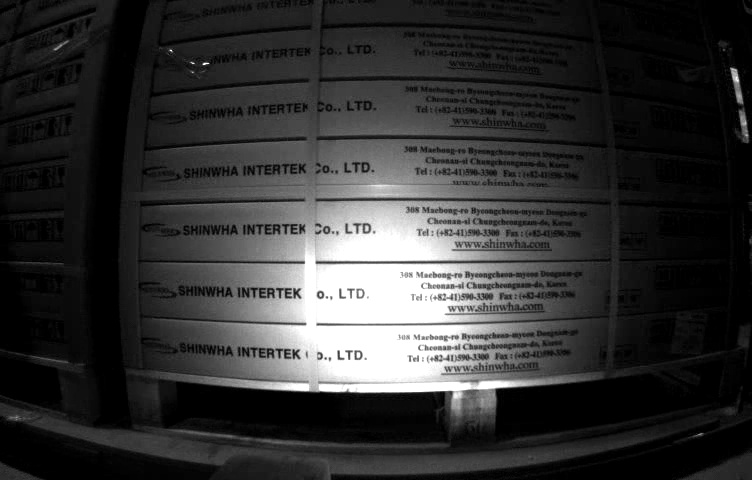True Barcode: (673, 309, 708, 358)
